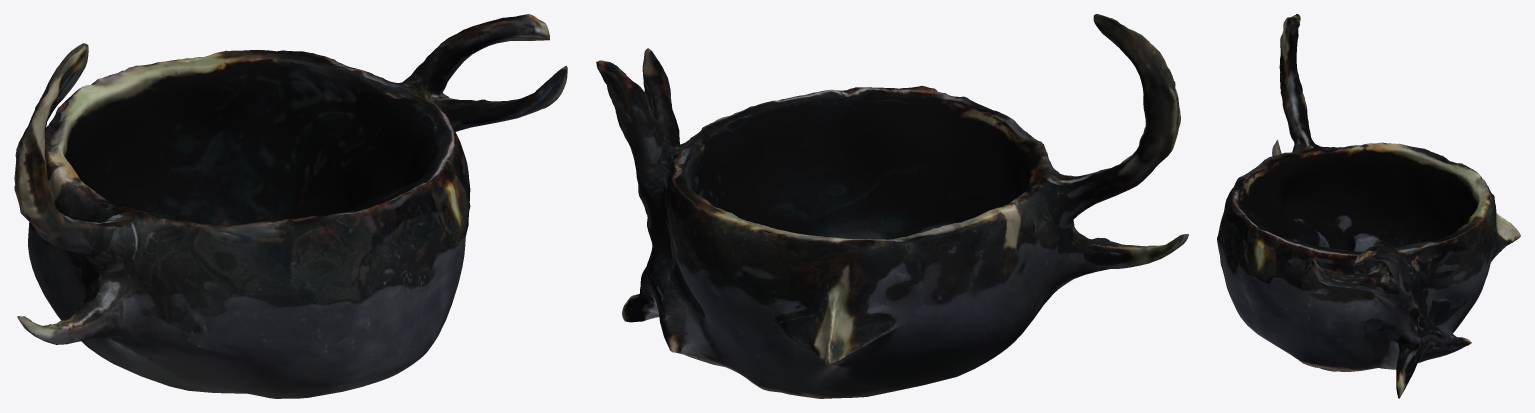
The picture shows the model from 3 angles, left to right: view 1: azimuth 30°, elevation 25°; view 2: azimuth 150°, elevation 25°; view 3: azimuth 270°, elevation 25°; orthographic projection. The views are drawn at different scales.
Size of the model in its own units: 0.5839 by 0.3859 by 0.4145.
Materials: 1 (1 with a texture image).
